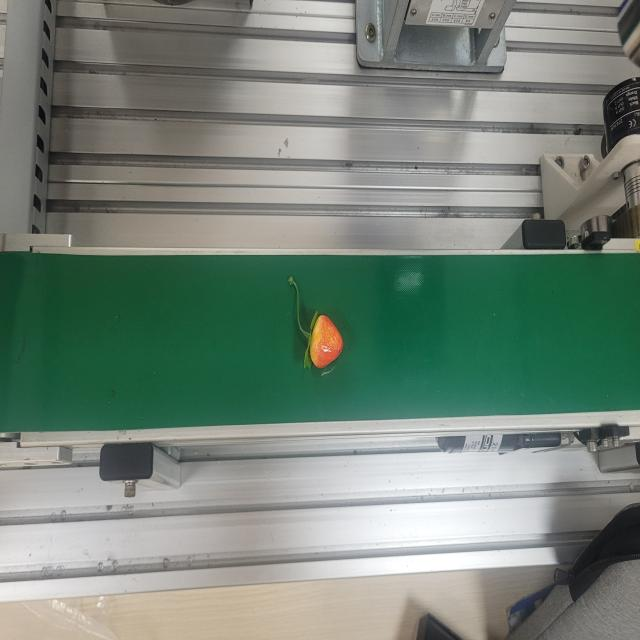Small Unripe Strawberry: (286, 272, 345, 374)
